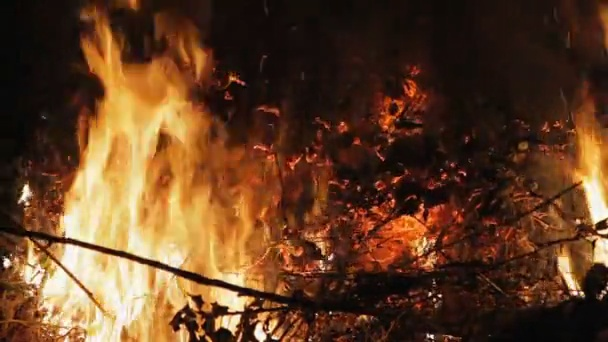fire: (20, 3, 289, 342), (574, 134, 608, 263), (557, 256, 580, 296), (20, 186, 31, 202), (3, 257, 11, 267)
